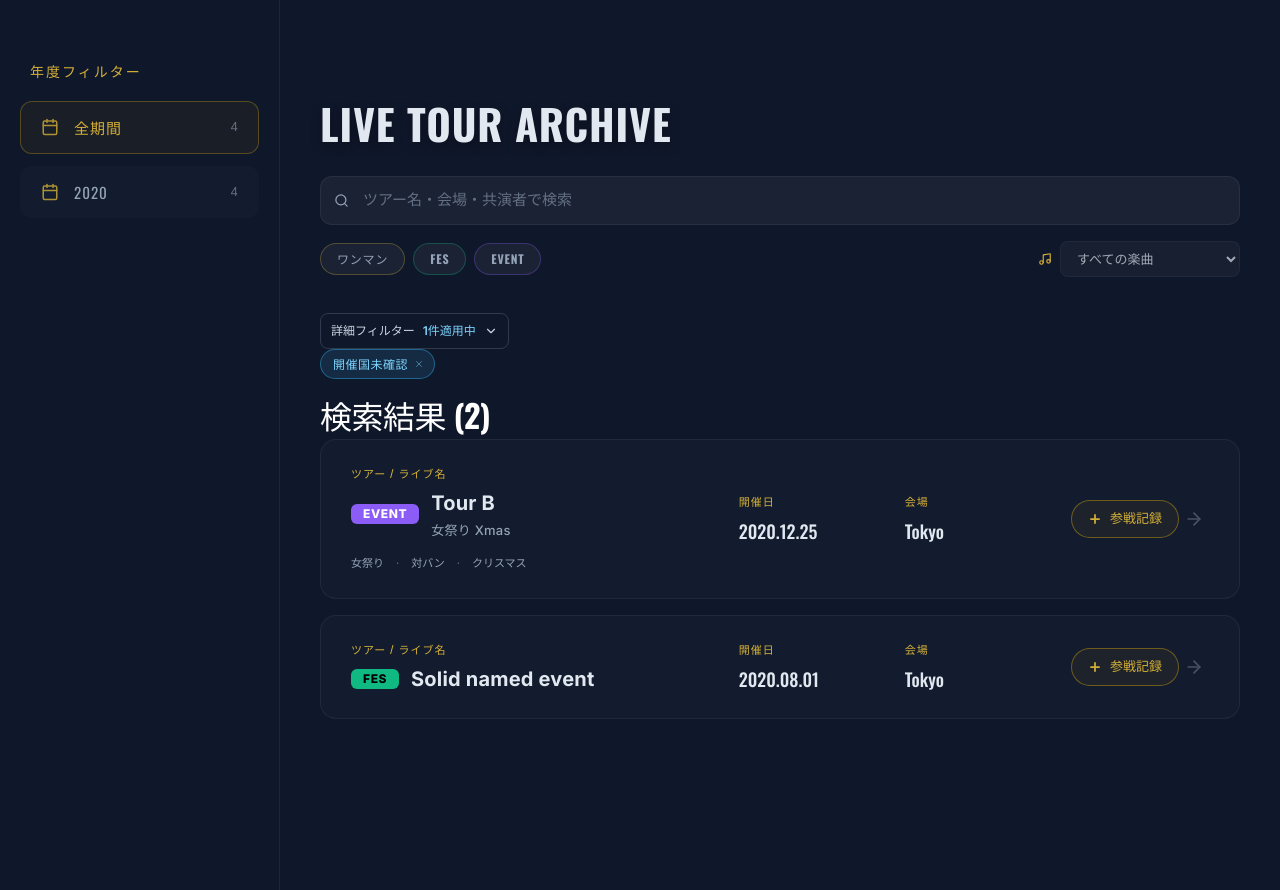
Test case: LiveList 属性フィルター › 復元された未確認条件は日本や海外と誤表示せず、対象メンバー未確認も除外する
The width and height of the screenshot is (1280, 890).
Click the button "詳細フィルター 1件適用中". click: (414, 331)
box: [320,313,509,349]
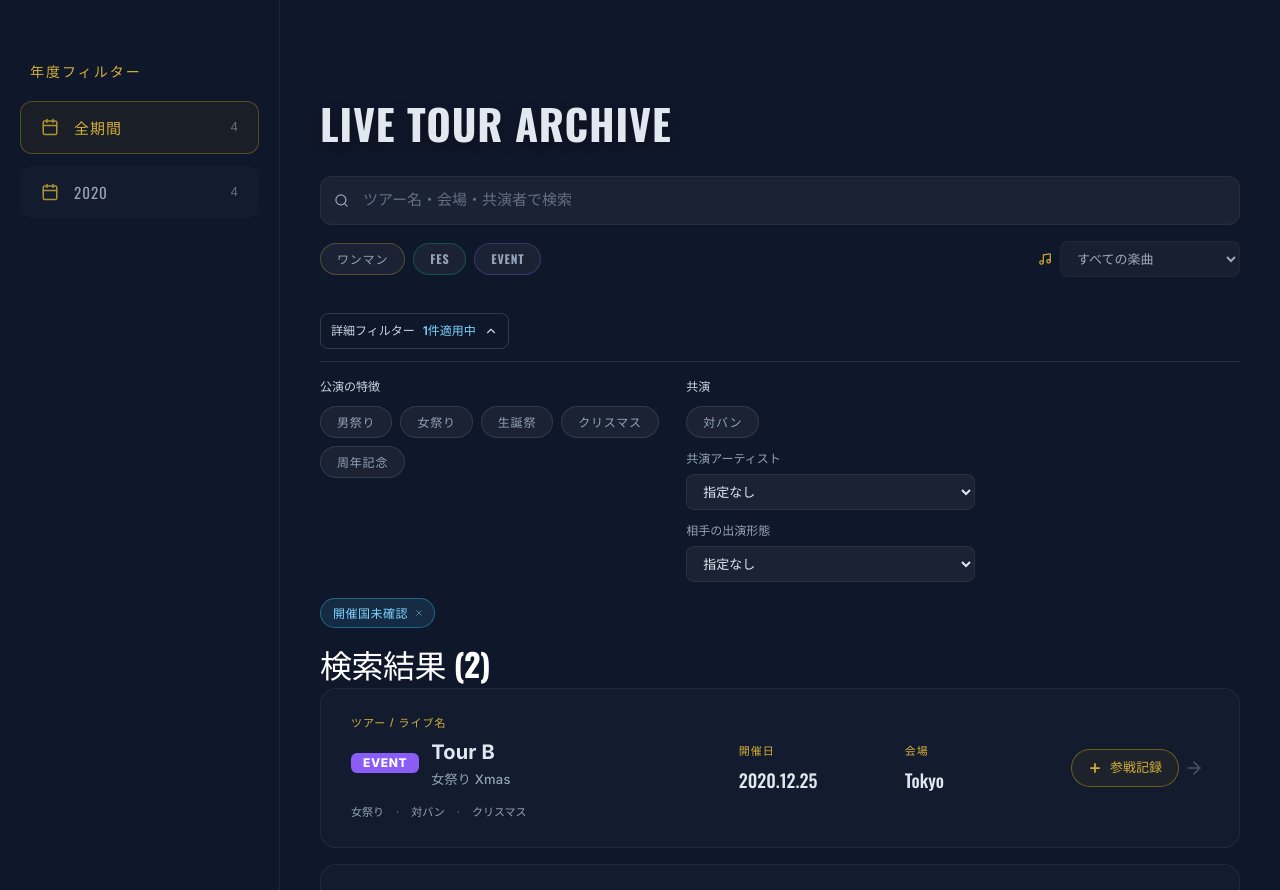
Expected: the text "開催国未確認" is shown, [320,598,435,628]
Click the button "生誕祭". click: (517, 422)
box: [481,406,553,438]
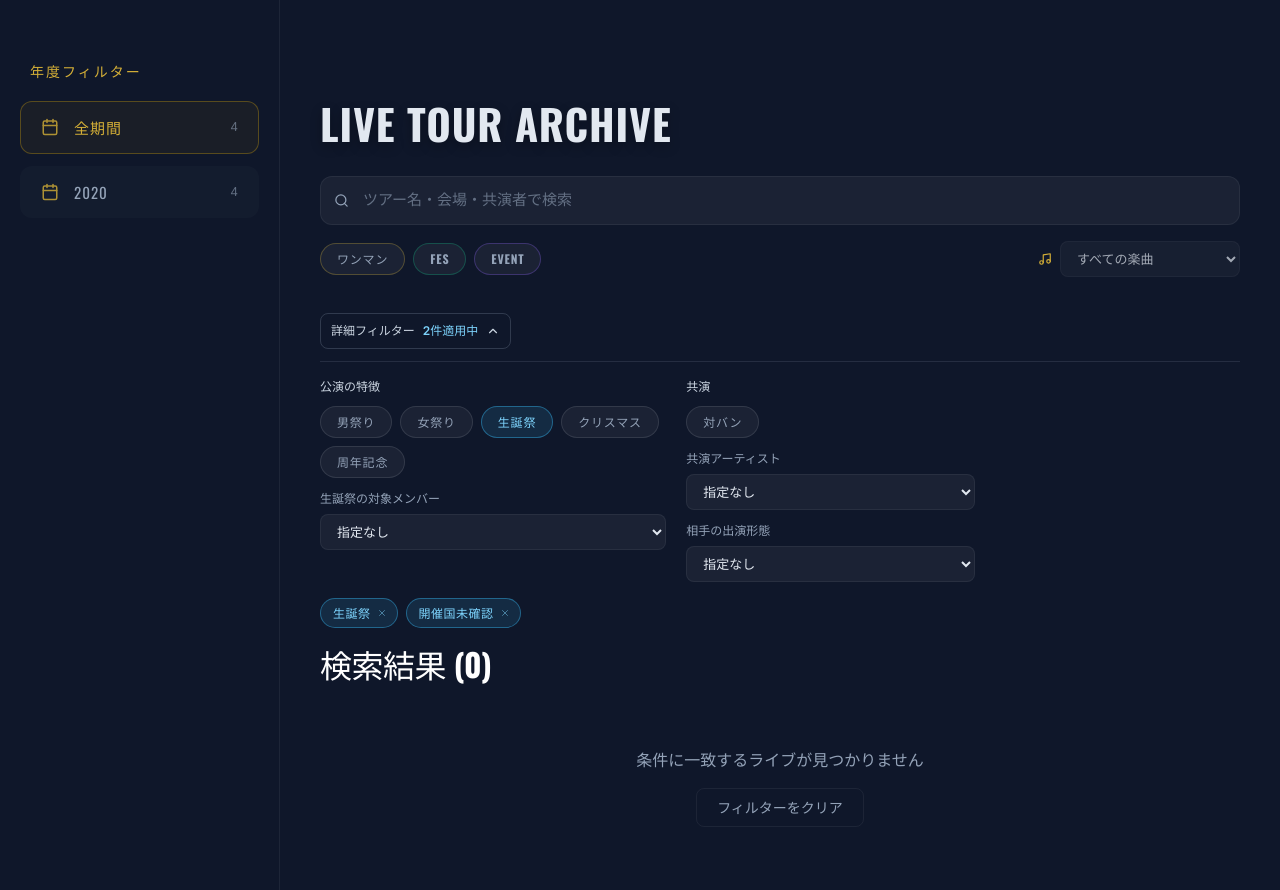
Select "TAKUYA∞" in the dropdown labelled "生誕祭の対象メンバー". click: (493, 532)
box: [320,514,666,550]
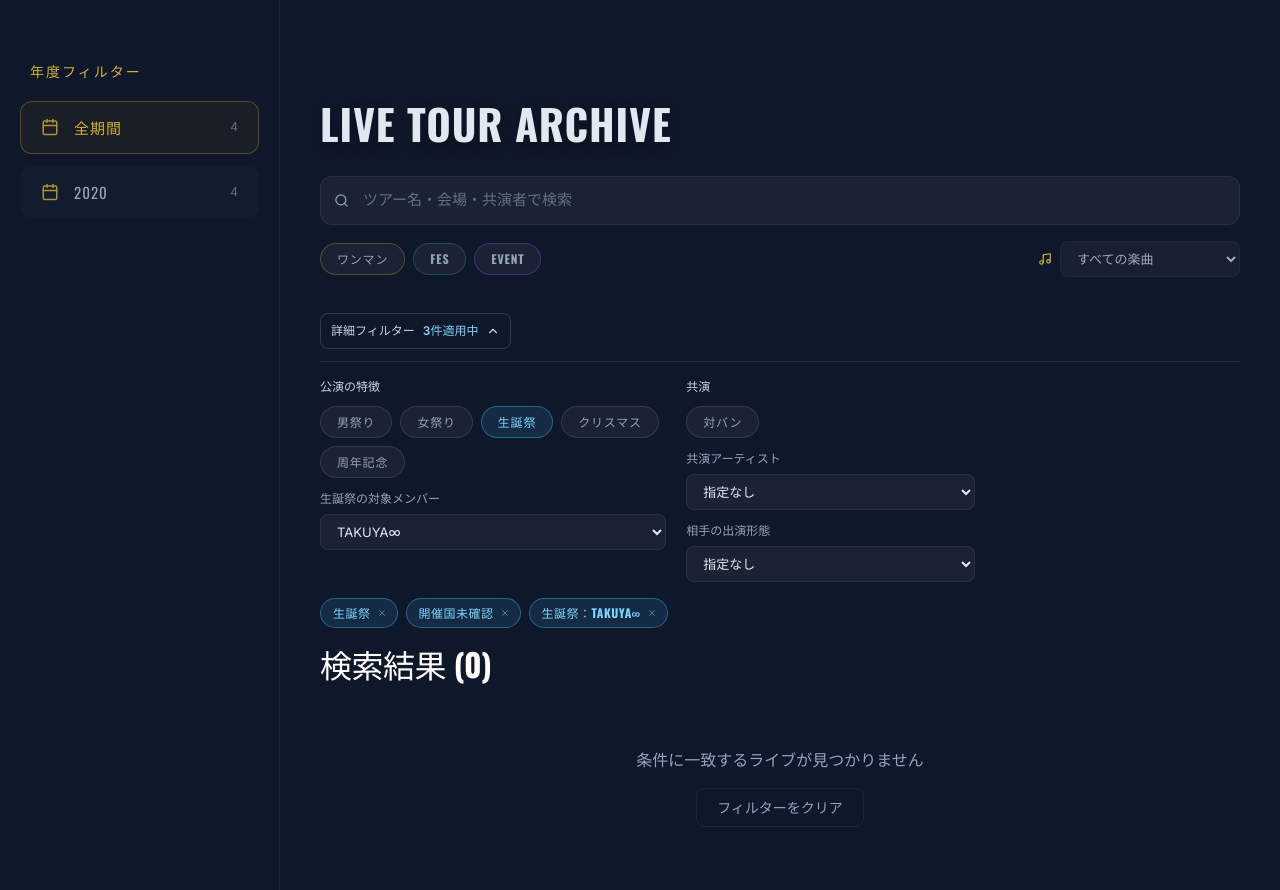
Now the text "条件に一致するライブが見つかりません" is shown, box [636,750,924,770]
Click the button "フィルターをクリア". click: (780, 807)
box: [696,788,864,827]
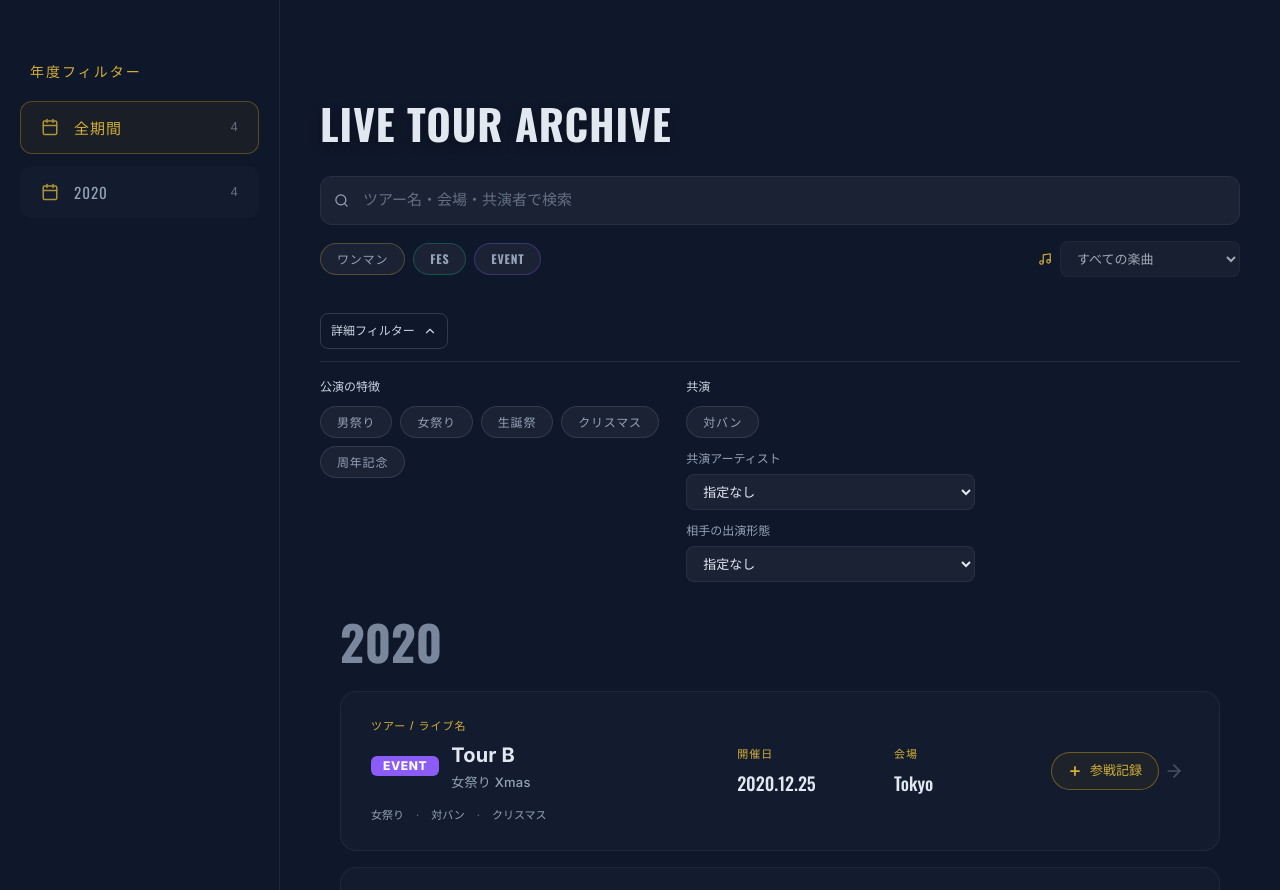
Now the text "開催国未確認" is gone
Now the label labelled "生誕祭の対象メンバー" is gone
